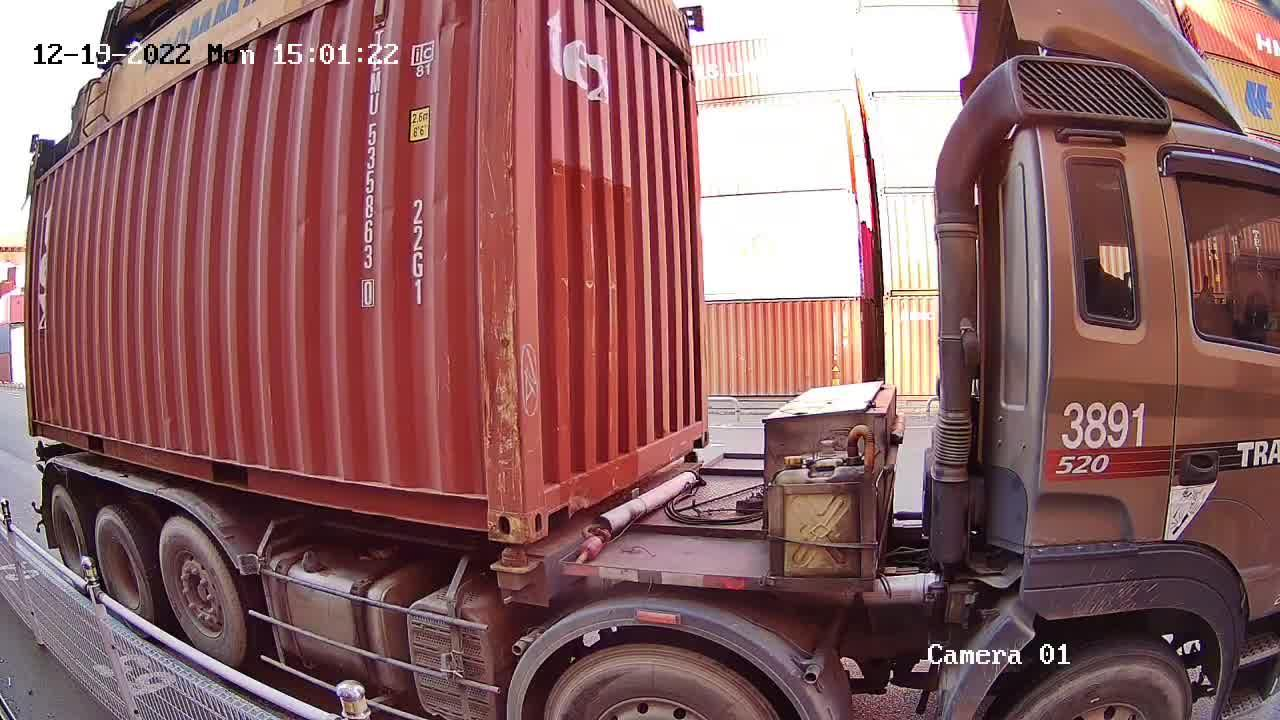Cone: (488, 546, 541, 600)
Hole_L: (523, 468, 570, 543)
Hole_R: (456, 478, 523, 544), (683, 406, 709, 456)
Tire: (162, 521, 243, 663), (95, 510, 153, 614), (53, 492, 84, 574)
